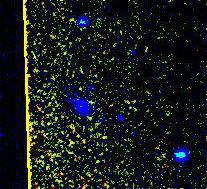star: (66, 73, 96, 103)
